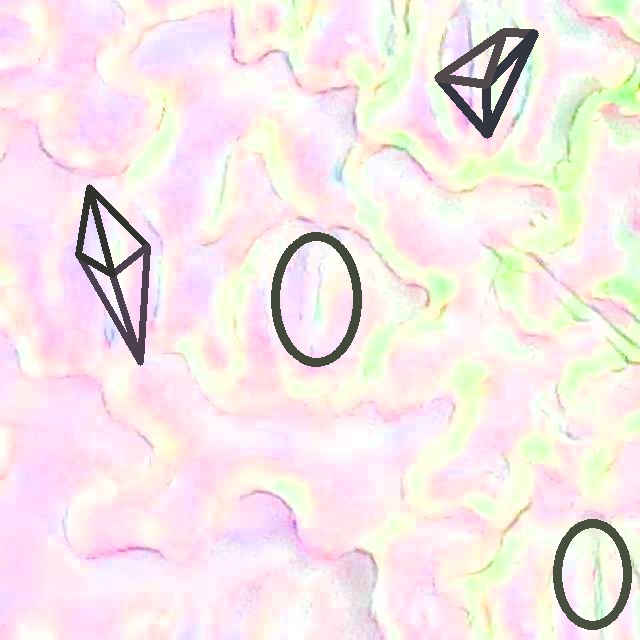open: (75, 184, 150, 365), (270, 232, 361, 366), (435, 29, 538, 138), (552, 520, 631, 629)
